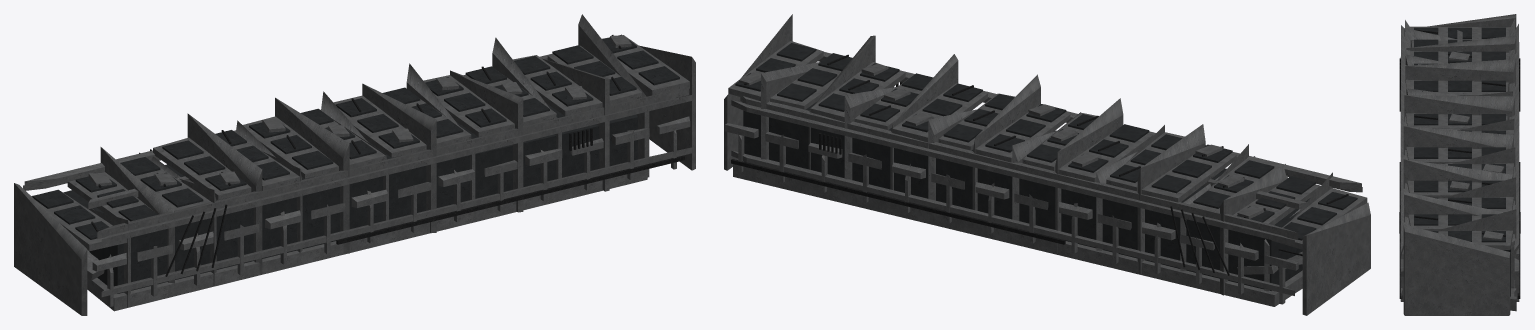
The model's file is city-long-collapse.glb.
3 renders of one model, left to right at view 1: azimuth 30°, elevation 25°; view 2: azimuth 150°, elevation 25°; view 3: azimuth 270°, elevation 25°, orthographic. The views are drawn at different scales.
Parts seen in each view (by area): view 1: city-long-collapse-concrete, city-long-collapse-weathered-infill, city-long-collapse-steel; view 2: city-long-collapse-concrete, city-long-collapse-weathered-infill, city-long-collapse-steel; view 3: city-long-collapse-concrete, city-long-collapse-weathered-infill, city-long-collapse-steel.
Boxes of the visible parts, <box> form: city-long-collapse-concrete: <box>14,14,695,315</box>; city-long-collapse-weathered-infill: <box>32,34,679,293</box>; city-long-collapse-steel: <box>91,35,684,276</box>; city-long-collapse-concrete: <box>724,14,1370,315</box>; city-long-collapse-weathered-infill: <box>735,43,1357,290</box>; city-long-collapse-steel: <box>731,54,1348,275</box>; city-long-collapse-concrete: <box>1400,14,1519,315</box>; city-long-collapse-weathered-infill: <box>1411,27,1510,296</box>; city-long-collapse-steel: <box>1399,29,1520,298</box>.
Size of the model in its own units: 27.61 by 4.96 by 6.02.
Materials: 3 (3 with a texture image).
